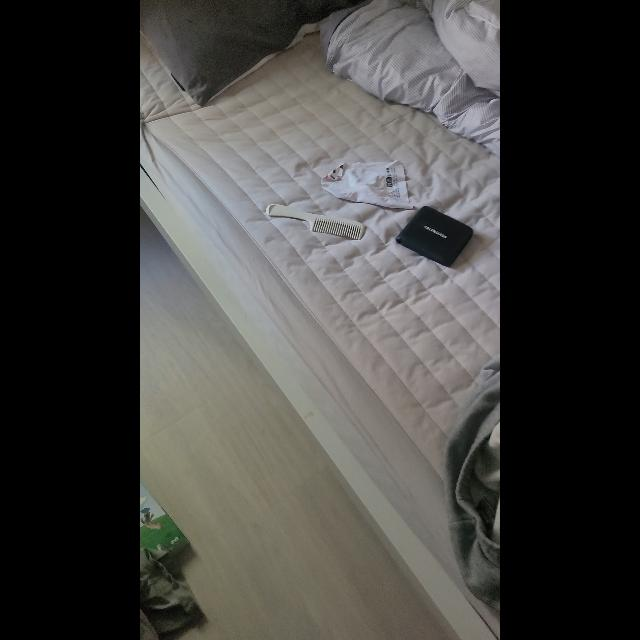COMB: (266, 203, 364, 240)
Glasses cleaning cloth: (321, 160, 414, 208)
WALLET: (395, 205, 473, 267)
